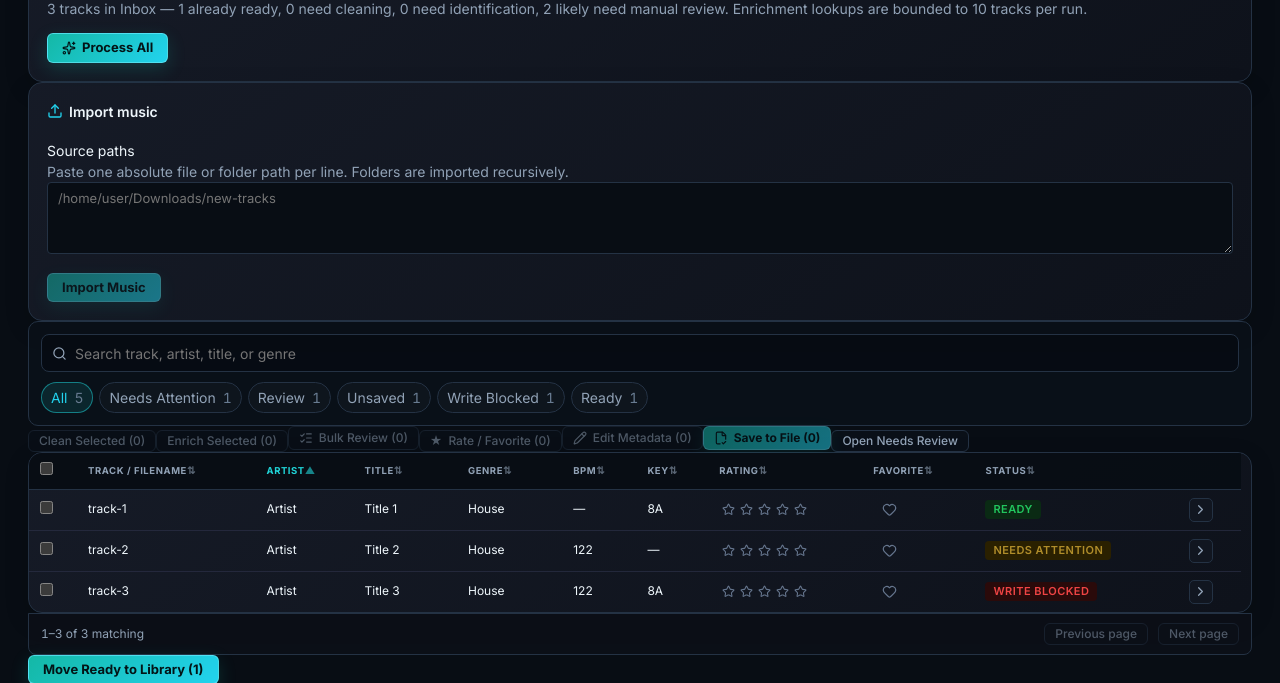
Inbox filtering, selection, and inspector › shows local validation and restores the prior value after a failed edit
(page scrolled)
Click the checkbox named "Select track-1.mp3".
click(46, 508)  # box x1=40 y1=501 x2=53 y2=514
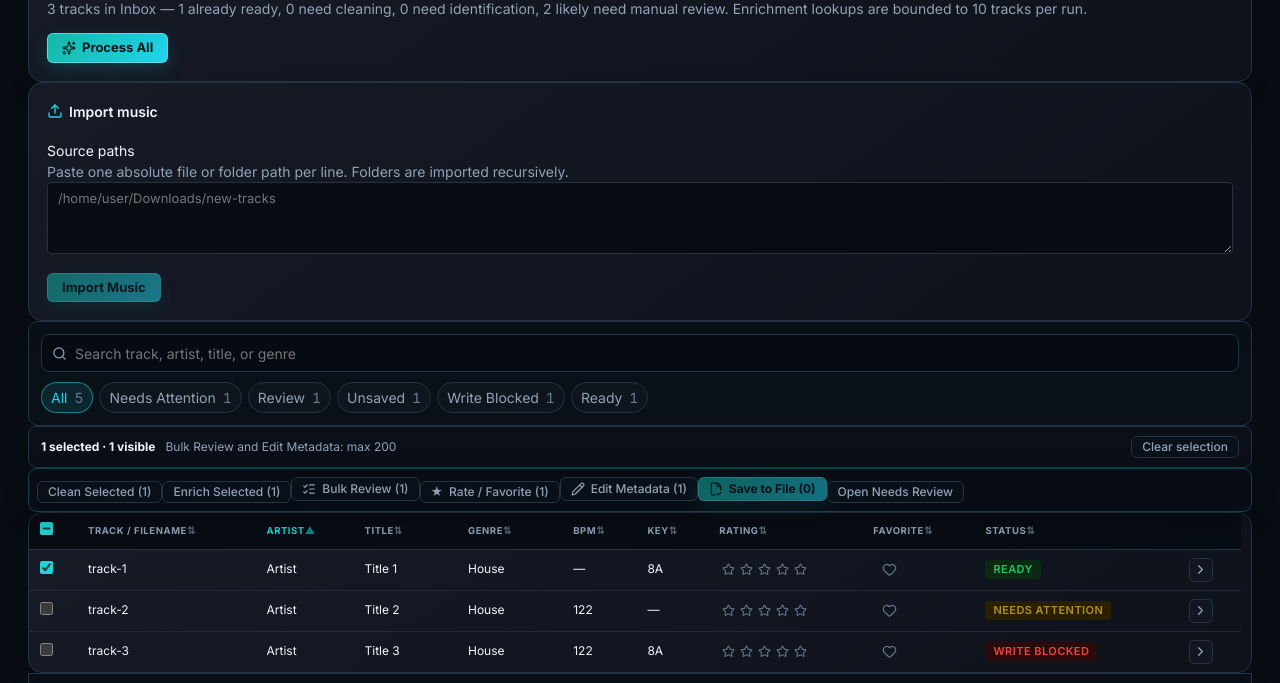
Click the button with aria-label "Edit Title for track-1.mp3".
click(401, 570)  # box x1=360 y1=560 x2=442 y2=580
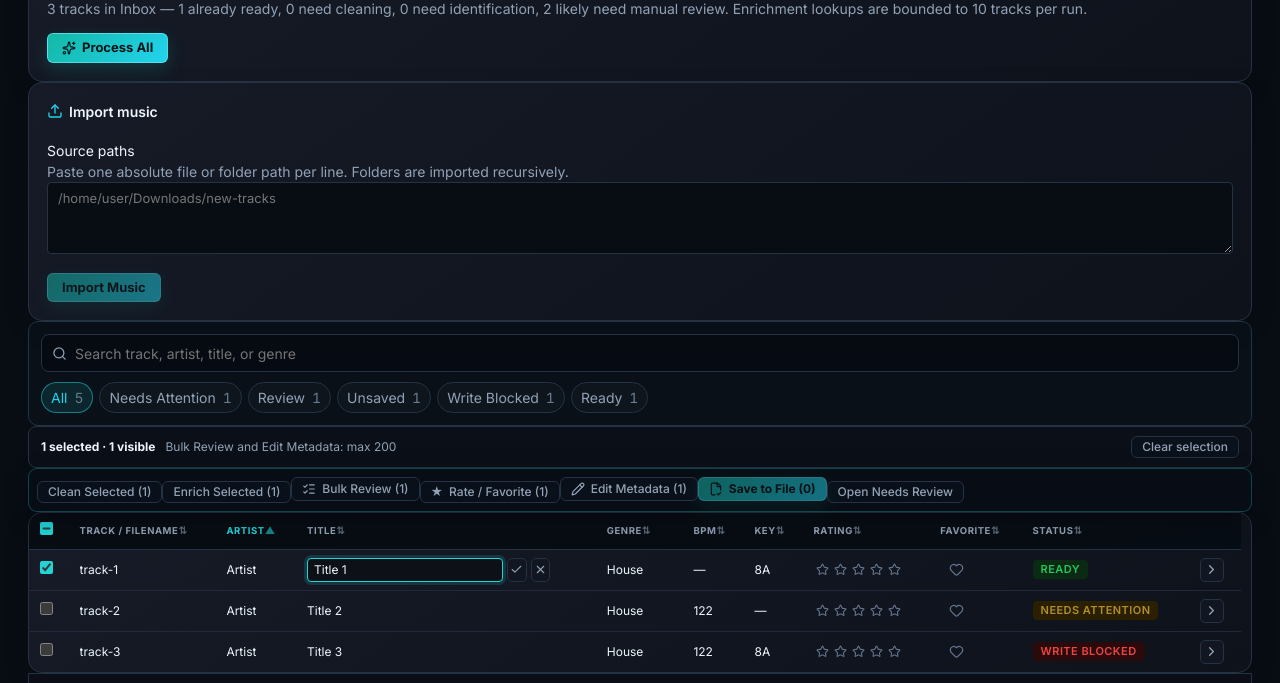
Replace the text in the field named "Title for track-1.mp3 value" with "Changed title" at (405, 570), box x1=307 y1=558 x2=503 y2=582
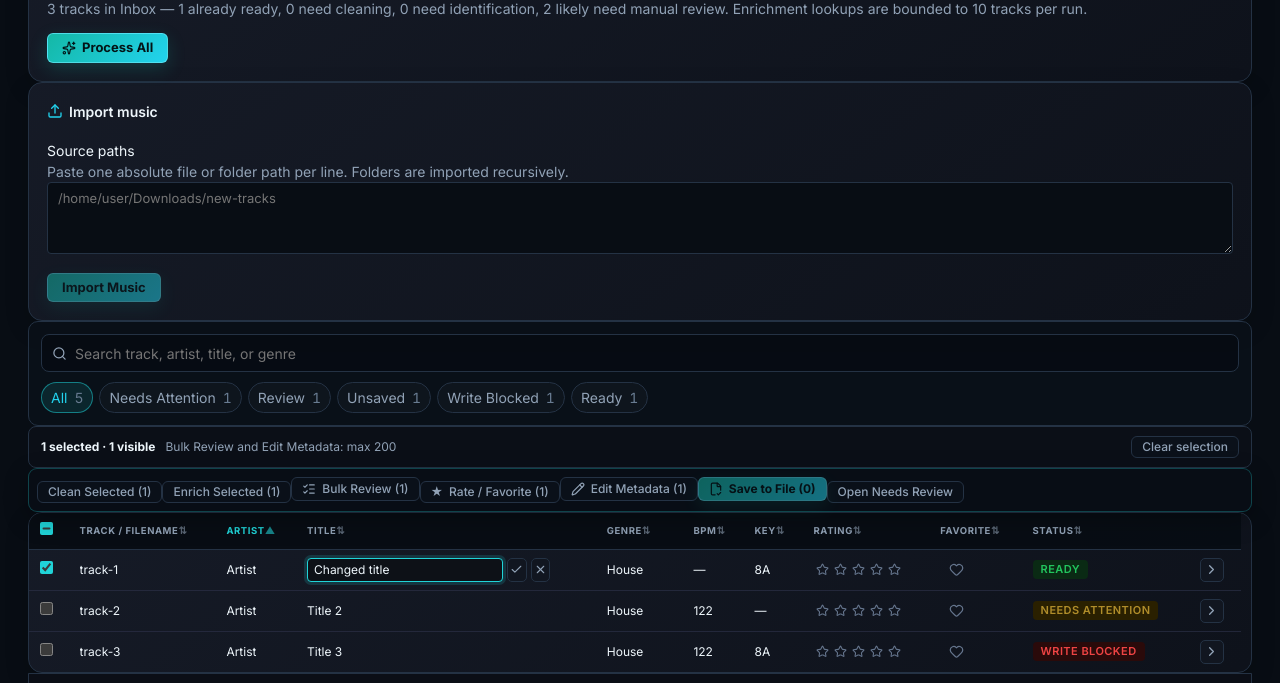
Press Enter in the field named "Title for track-1.mp3 value", box x1=307 y1=558 x2=503 y2=582
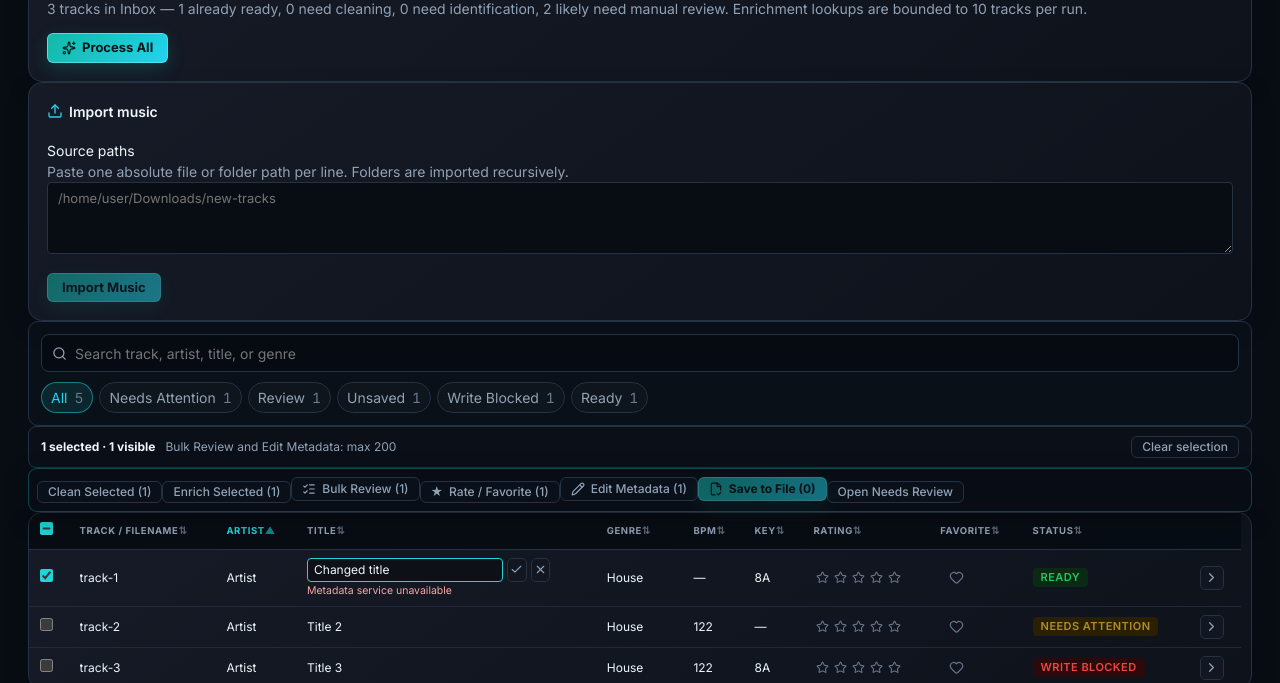
Now the message "Metadata service unavailable" is shown, box x1=307 y1=584 x2=452 y2=597
Press Escape in the field named "Title for track-1.mp3 value", box x1=307 y1=558 x2=503 y2=582
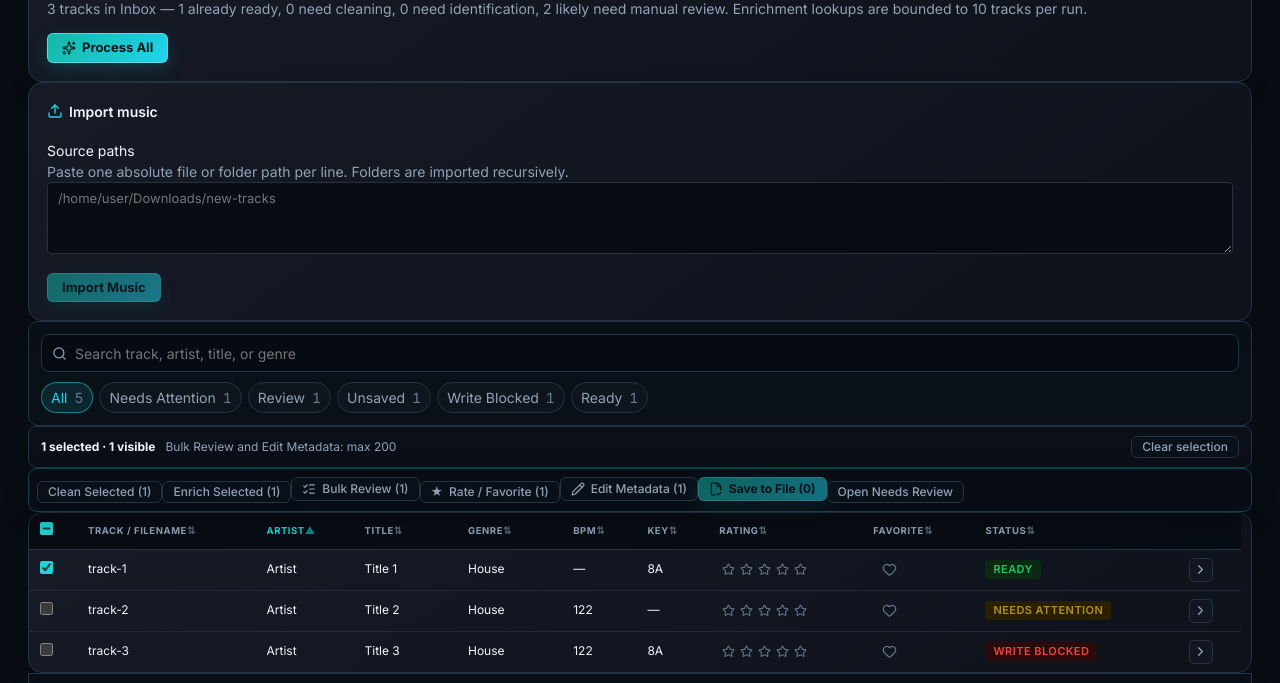
Now the text "1 selected · 1 visible" is shown, box x1=41 y1=438 x2=156 y2=456
Now the text "Title 1" is shown, box x1=364 y1=562 x2=397 y2=578
